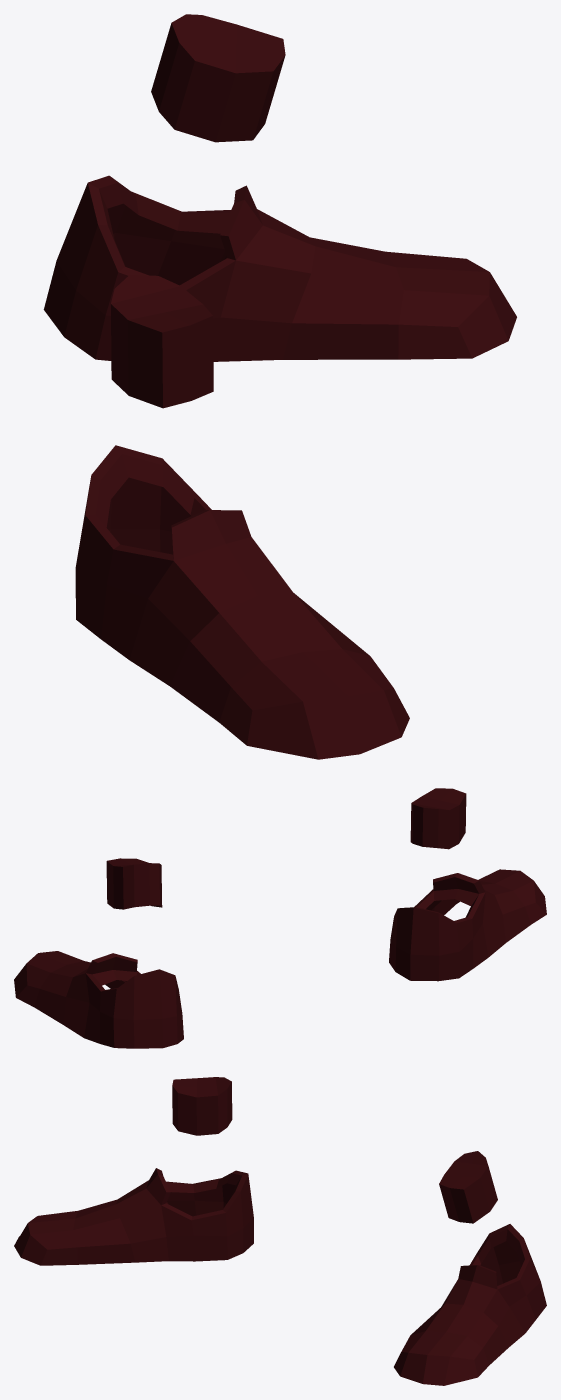
Rendered from Red_Dark.obj.
3 renders of one model, top to bottom at view 1: azimuth 30°, elevation 25°; view 2: azimuth 150°, elevation 25°; view 3: azimuth 270°, elevation 25°, orthographic. The views are drawn at different scales.
Bounding box in the file's own units: 0.4479 × 0.216 × 0.6364.
